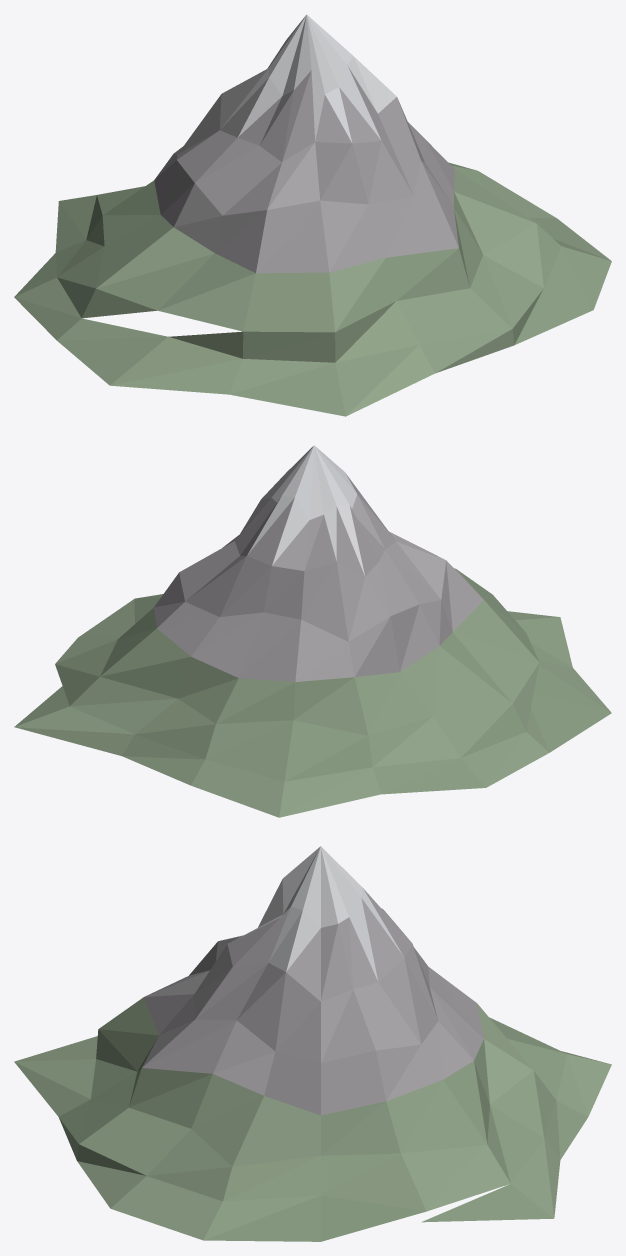
Rendered from mountain0.glb.
3 views of the same model, one above another, from view 1: azimuth 30°, elevation 25°; view 2: azimuth 150°, elevation 25°; view 3: azimuth 270°, elevation 25° (orthographic). The views are drawn at different scales.
Parts seen in each view (by area): view 1: mountain0; view 2: mountain0; view 3: mountain0.
Part boxes in pixels (box(x1,y1,x2,y2)): mountain0: box(14, 14, 611, 416); mountain0: box(14, 445, 611, 817); mountain0: box(14, 846, 611, 1241).
Size of the model in its own units: 2 by 1 by 2.
